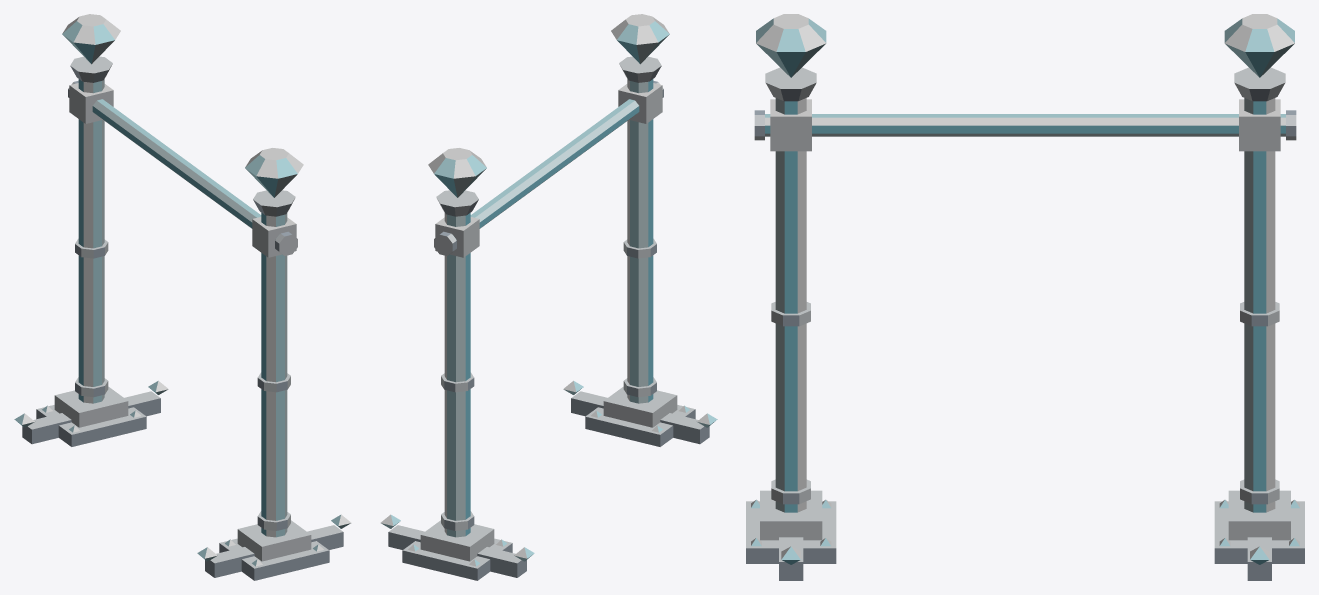
The model's file is bar_diamond.glb.
The picture shows the model from 3 angles, left to right: view 1: azimuth 30°, elevation 25°; view 2: azimuth 150°, elevation 25°; view 3: azimuth 270°, elevation 25°; orthographic projection. The views are drawn at different scales.
Visible parts, largest first — view 1: bar_diamond; view 2: bar_diamond; view 3: bar_diamond.
Part boxes in pixels (x1,y1,x2,y2): bar_diamond: (14,14,351,580); bar_diamond: (380,14,717,580); bar_diamond: (746,14,1304,580).
Size of the model in its own units: 1.25 by 3.3 by 3.22.
